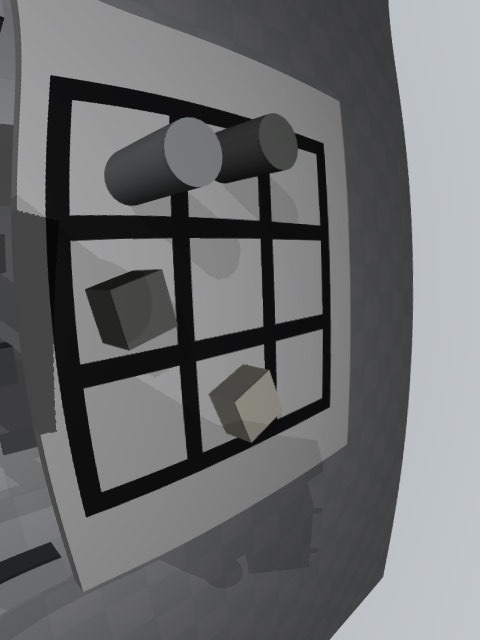can: (104, 117, 222, 206)
cube: (85, 269, 178, 351)
cylinder: (215, 113, 298, 184)
foam: (208, 364, 283, 443)
